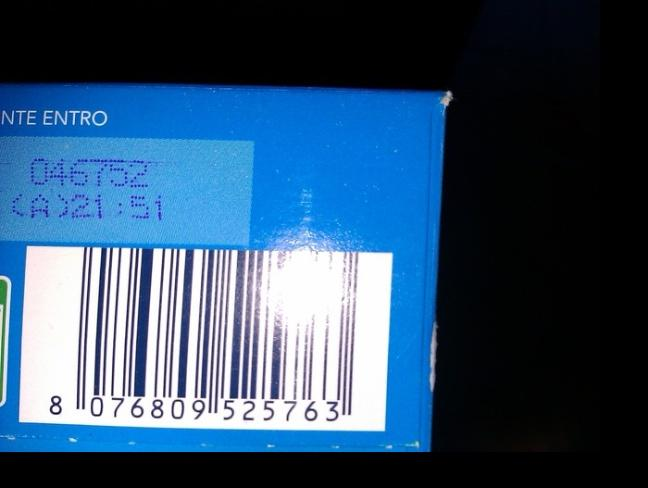Barcode: (46, 248, 366, 426)
